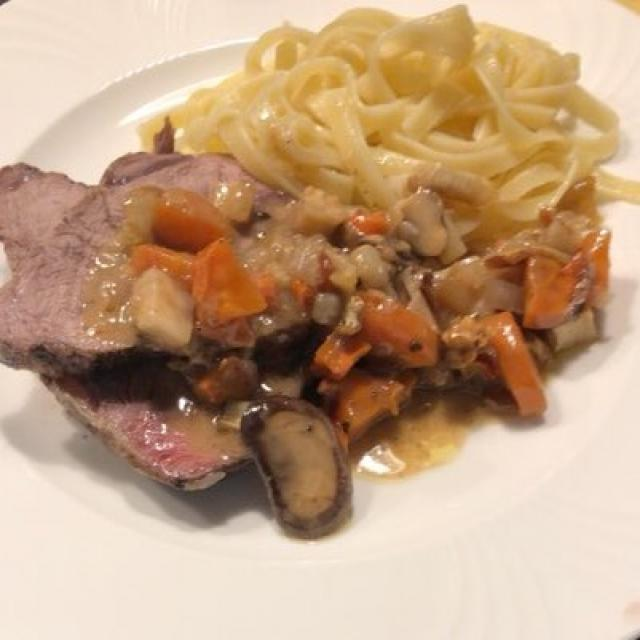beef: (0, 161, 287, 477)
mixed-vegetables: (114, 195, 602, 561)
pasta: (151, 14, 620, 240)
sauce: (289, 360, 537, 484)
